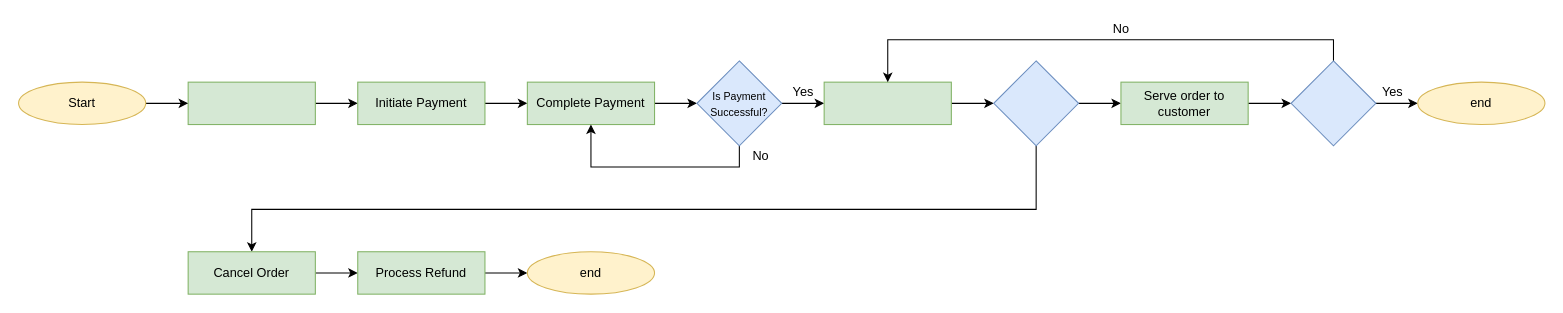
Some shapes in this 1563 by 313 pixel diagram are drawn without their labels. The box of each missing label's shape, as (x1, y1, x2, y2) in pixels:
Is Preparation Successful?: (993, 60, 1079, 146)
Is serve order successful ?: (1290, 60, 1376, 146)
Prepare Order: (823, 81, 951, 125)
Take order from customer: (187, 81, 315, 125)
